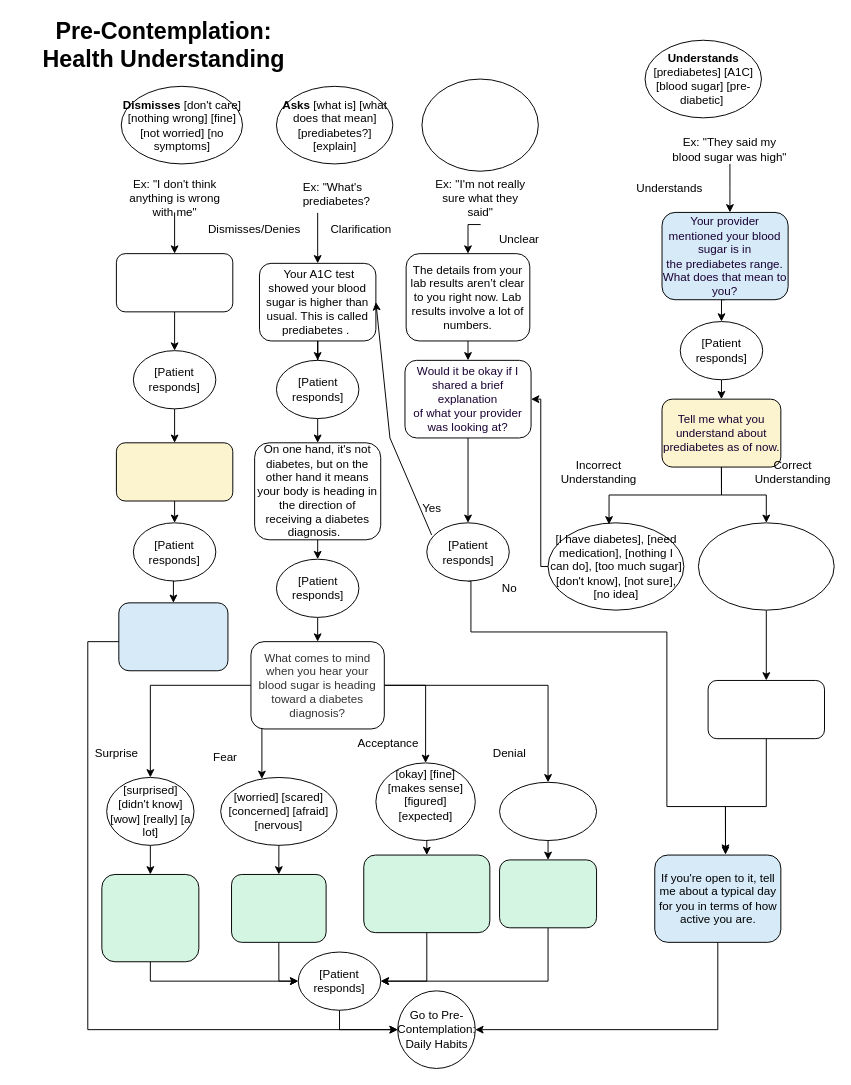
Some shapes in this 851 by 1085 pixel diagram are drawn without their labels. The box of each missing label's shape, as (x1, y1, x2, y2) in pixels:
[blood sugar], [A1C], [at risk], [could get diabetes], [watch what I eat]: (697, 522, 834, 610)
[don't believe] [disagree] [wrong] [doubt] [not true]: (499, 781, 597, 841)
Hearing your blood sugar is in the prediabetes range is new information for you.: (101, 873, 199, 962)
Tell me about a typical day for you in terms of how active you are.: (118, 602, 228, 671)
The possibility of a diabetes diagnosis is weighing on you.: (231, 873, 326, 942)
This isn’t something on your mind right now.: (115, 253, 233, 312)
Unclear [don't know] [not sure] [confused] [don't remember]: (421, 78, 538, 171)
You have some doubts about whether it will come to that.: (499, 859, 597, 928)
You know your body the best. You are the one who lives in it every day.: (115, 442, 233, 501)
You recognize where your health stands right now, and that takes self-awareness.: (363, 854, 490, 933)
You recognize where your health stands right now. That takes honesty.: (707, 679, 824, 739)
